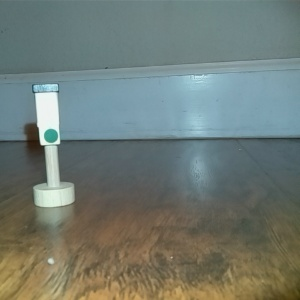traffic light green: (28, 81, 76, 208)
